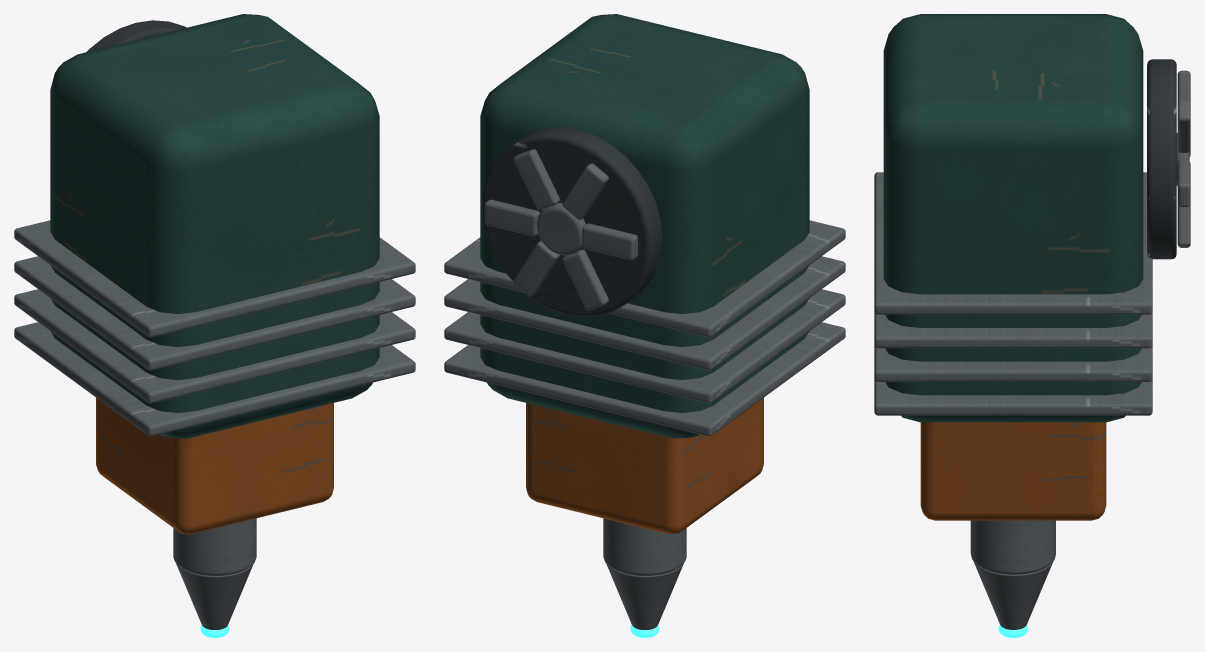
Rendered from fabricator_head.glb.
3 views of the same model, side by side, from view 1: azimuth 30°, elevation 25°; view 2: azimuth 150°, elevation 25°; view 3: azimuth 270°, elevation 25° (orthographic).
Parts seen in each view (by area): view 1: Extruder housing, Hotend shield, Heatbreak cooling fin.003, Heatbreak cooling fin.002, Heatbreak cooling fin, Heatbreak cooling fin.001, Ceramic heater, Tungsten nozzle, Fan shroud; view 2: Extruder housing, Hotend shield, Fan shroud, Heatbreak cooling fin.002, Heatbreak cooling fin, Heatbreak cooling fin.001, Heatbreak cooling fin.003, Ceramic heater, Tungsten nozzle, Fan hub, Fan blade.001, Fan blade.004 (+4 smaller); view 3: Extruder housing, Hotend shield, Heatbreak cooling fin.003, Heatbreak cooling fin.002, Heatbreak cooling fin, Heatbreak cooling fin.001, Fan shroud, Ceramic heater, Tungsten nozzle, Fan blade.001, Fan blade, Fan blade.005.
Part boxes in pixels (bbox=[...]): Extruder housing: bbox=[50, 14, 379, 438]; Hotend shield: bbox=[96, 397, 333, 534]; Heatbreak cooling fin.003: bbox=[14, 220, 415, 337]; Heatbreak cooling fin.002: bbox=[14, 256, 415, 370]; Heatbreak cooling fin: bbox=[14, 322, 415, 436]; Heatbreak cooling fin.001: bbox=[14, 289, 415, 403]; Ceramic heater: bbox=[173, 518, 256, 575]; Tungsten nozzle: bbox=[176, 564, 253, 629]; Fan shroud: bbox=[87, 20, 186, 51]; Extruder housing: bbox=[480, 14, 809, 438]; Hotend shield: bbox=[526, 397, 763, 534]; Fan shroud: bbox=[482, 127, 662, 316]; Heatbreak cooling fin.002: bbox=[444, 256, 845, 370]; Heatbreak cooling fin: bbox=[444, 322, 845, 436]; Heatbreak cooling fin.001: bbox=[444, 289, 845, 403]; Heatbreak cooling fin.003: bbox=[444, 220, 845, 337]; Ceramic heater: bbox=[603, 518, 686, 575]; Tungsten nozzle: bbox=[606, 564, 683, 629]; Fan hub: bbox=[537, 203, 585, 255]; Fan blade.001: bbox=[513, 149, 559, 209]; Fan blade.004: bbox=[562, 249, 608, 310]; Extruder housing: bbox=[883, 14, 1143, 422]; Hotend shield: bbox=[920, 422, 1106, 520]; Heatbreak cooling fin.003: bbox=[874, 172, 1152, 314]; Heatbreak cooling fin.002: bbox=[874, 312, 1152, 348]; Heatbreak cooling fin: bbox=[874, 379, 1152, 415]; Heatbreak cooling fin.001: bbox=[874, 345, 1152, 381]; Fan shroud: bbox=[1147, 59, 1176, 259]; Ceramic heater: bbox=[970, 520, 1055, 574]; Tungsten nozzle: bbox=[974, 562, 1052, 629]; Fan blade.001: bbox=[1177, 99, 1190, 152]; Fan blade: bbox=[1177, 160, 1190, 207]; Fan blade.005: bbox=[1177, 204, 1190, 247].
Bounding box in the file's own units: 0.17 × 0.342 × 0.1705.
Materials: 5 (4 with a texture image).
